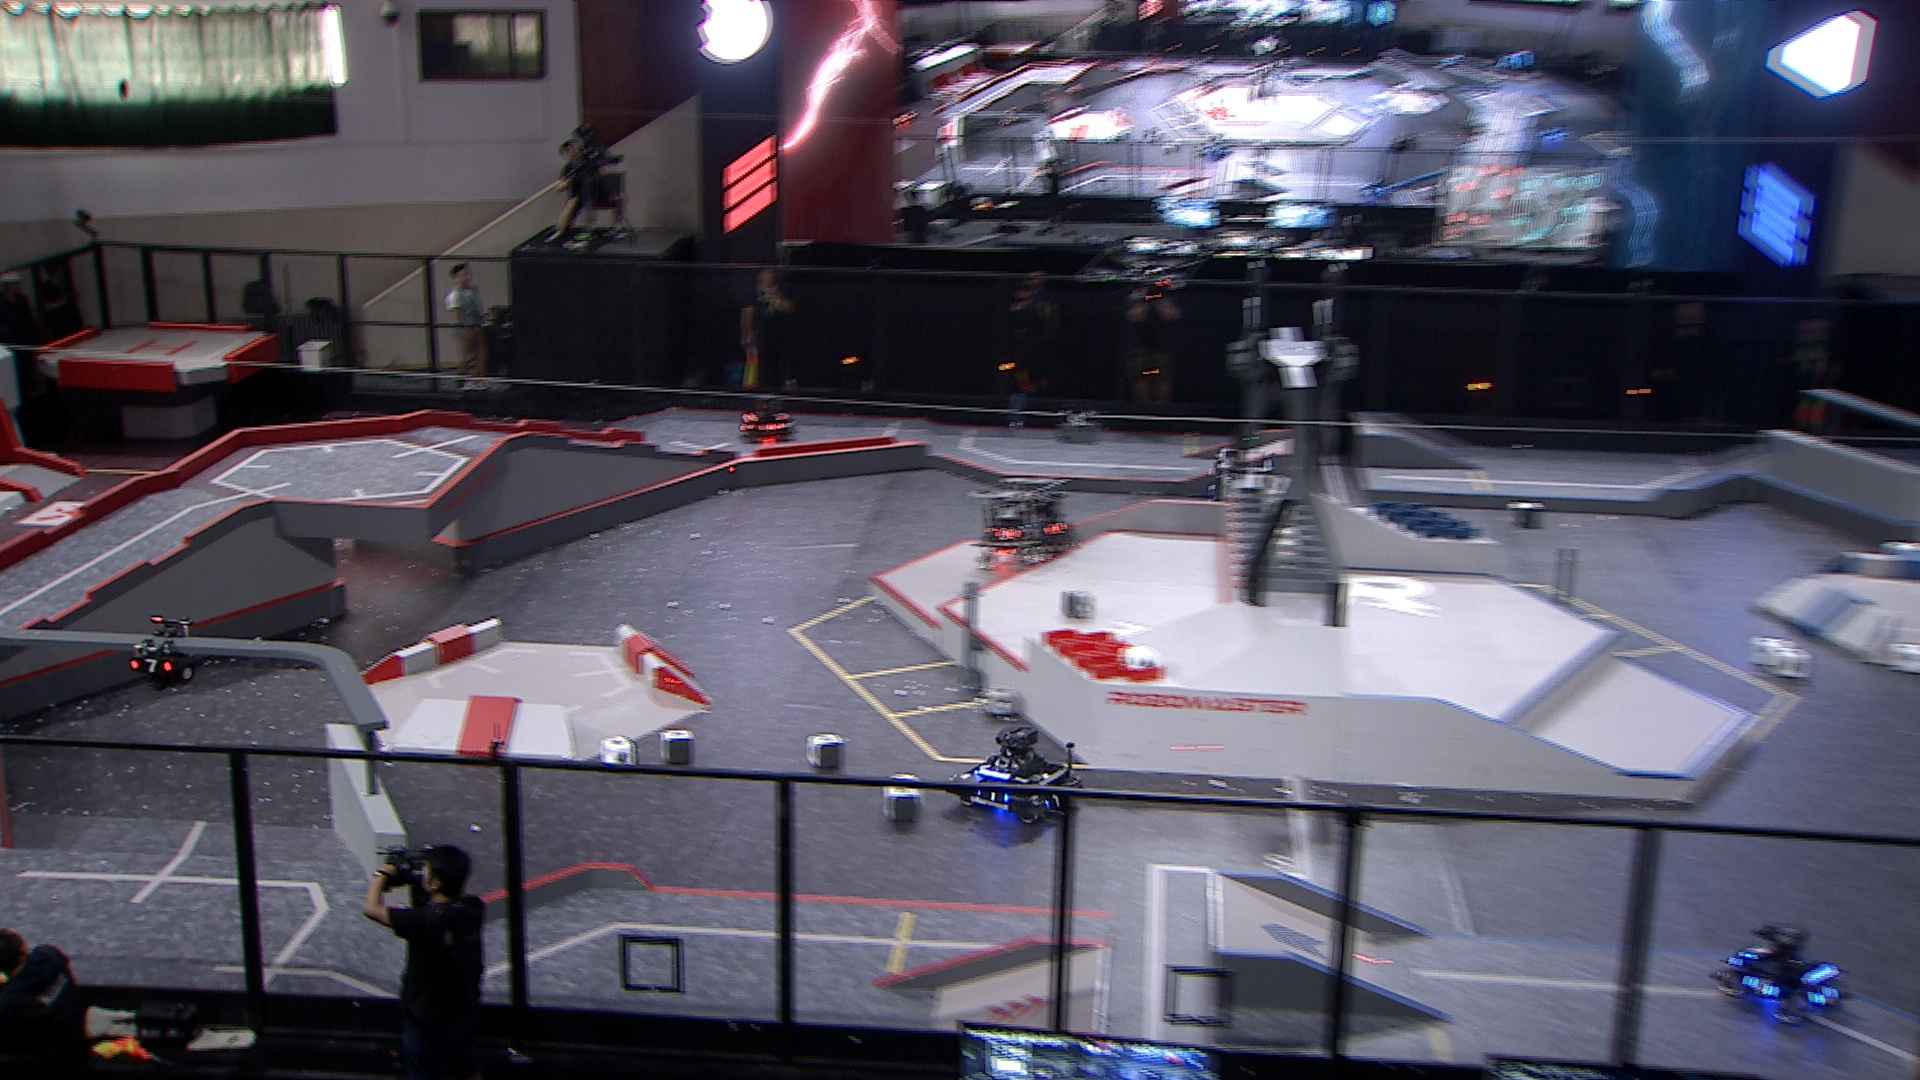armor: (1742, 975, 1782, 1002), (1807, 984, 1844, 1007), (975, 787, 1013, 807), (131, 657, 171, 675), (1738, 945, 1778, 959), (997, 527, 1022, 545), (1040, 793, 1062, 812), (1046, 520, 1067, 537), (760, 422, 787, 433)
car: (1712, 924, 1851, 1029), (945, 723, 1079, 828), (968, 476, 1073, 571), (1207, 444, 1280, 522), (741, 394, 796, 442)
ignore: (1495, 47, 1538, 76), (1199, 135, 1236, 161), (1360, 179, 1395, 204), (1538, 123, 1575, 142), (1000, 105, 1022, 128), (893, 107, 916, 128)
watcher: (131, 616, 196, 688)
